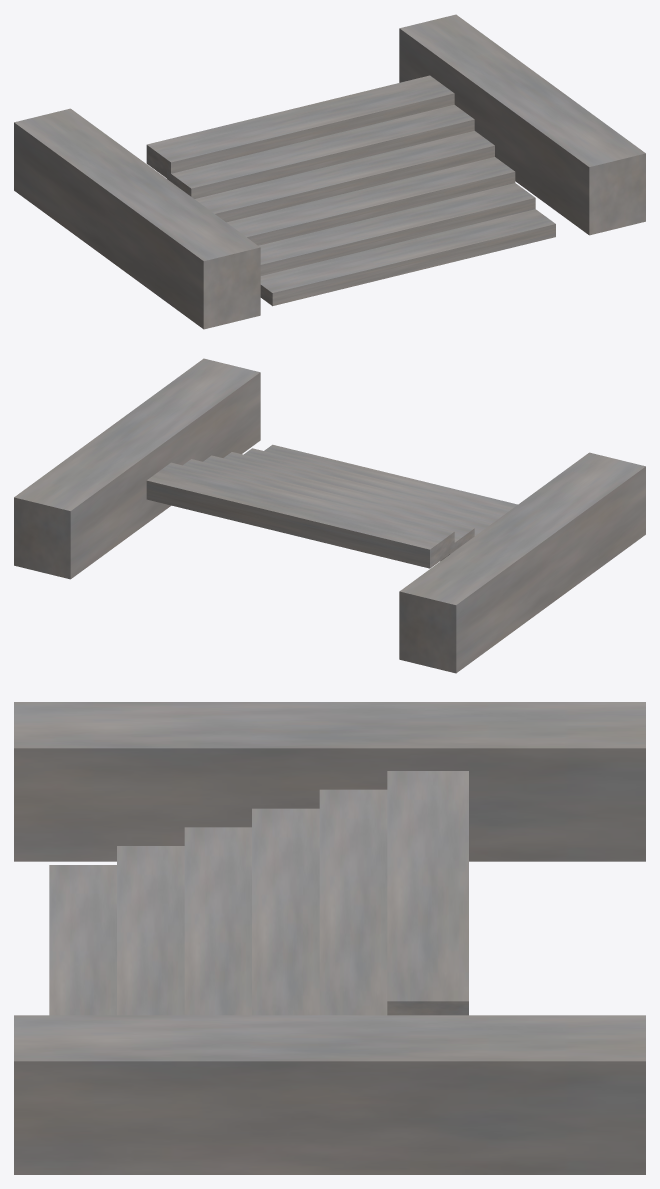
The model's file is stair-hubba-module.glb.
The picture shows the model from 3 angles, top to bottom: view 1: azimuth 30°, elevation 25°; view 2: azimuth 150°, elevation 25°; view 3: azimuth 270°, elevation 25°; orthographic projection. The views are drawn at different scales.
Visible parts, largest first — view 1: Hubba ledge, Hubba ledge.001, Stair tread.005, Stair tread, Stair tread.004, Stair tread.003, Stair tread.001, Stair tread.002; view 2: Hubba ledge, Hubba ledge.001, Stair tread.005, Stair tread.004, Stair tread.003, Stair tread.002, Stair tread.001, Stair tread; view 3: Hubba ledge.001, Hubba ledge, Stair tread.005, Stair tread.004, Stair tread.003, Stair tread.002, Stair tread.001, Stair tread.
Boxes of the visible parts, <box> form: Hubba ledge: <box>14,108,260,329</box>; Hubba ledge.001: <box>399,14,645,235</box>; Stair tread.005: <box>146,75,454,178</box>; Stair tread: <box>260,209,555,306</box>; Stair tread.004: <box>167,104,474,198</box>; Stair tread.003: <box>195,131,494,222</box>; Stair tread.001: <box>258,183,535,275</box>; Stair tread.002: <box>226,157,515,245</box>; Hubba ledge: <box>399,452,645,673</box>; Hubba ledge.001: <box>14,358,260,579</box>; Stair tread.005: <box>146,462,454,568</box>; Stair tread.004: <box>183,459,474,561</box>; Stair tread.003: <box>203,455,491,535</box>; Stair tread.002: <box>223,452,500,523</box>; Stair tread.001: <box>244,448,508,517</box>; Stair tread: <box>264,444,517,510</box>; Hubba ledge.001: <box>14,1015,645,1174</box>; Hubba ledge: <box>14,702,645,861</box>; Stair tread.005: <box>387,771,468,1015</box>; Stair tread.004: <box>319,789,387,1015</box>; Stair tread.003: <box>252,808,319,1015</box>; Stair tread.002: <box>184,827,251,1015</box>; Stair tread.001: <box>117,846,184,1015</box>; Stair tread: <box>49,865,116,1015</box>.
Size of the model in its own units: 7.8 by 1.21 by 5.8.
1 material, 1 textured.
